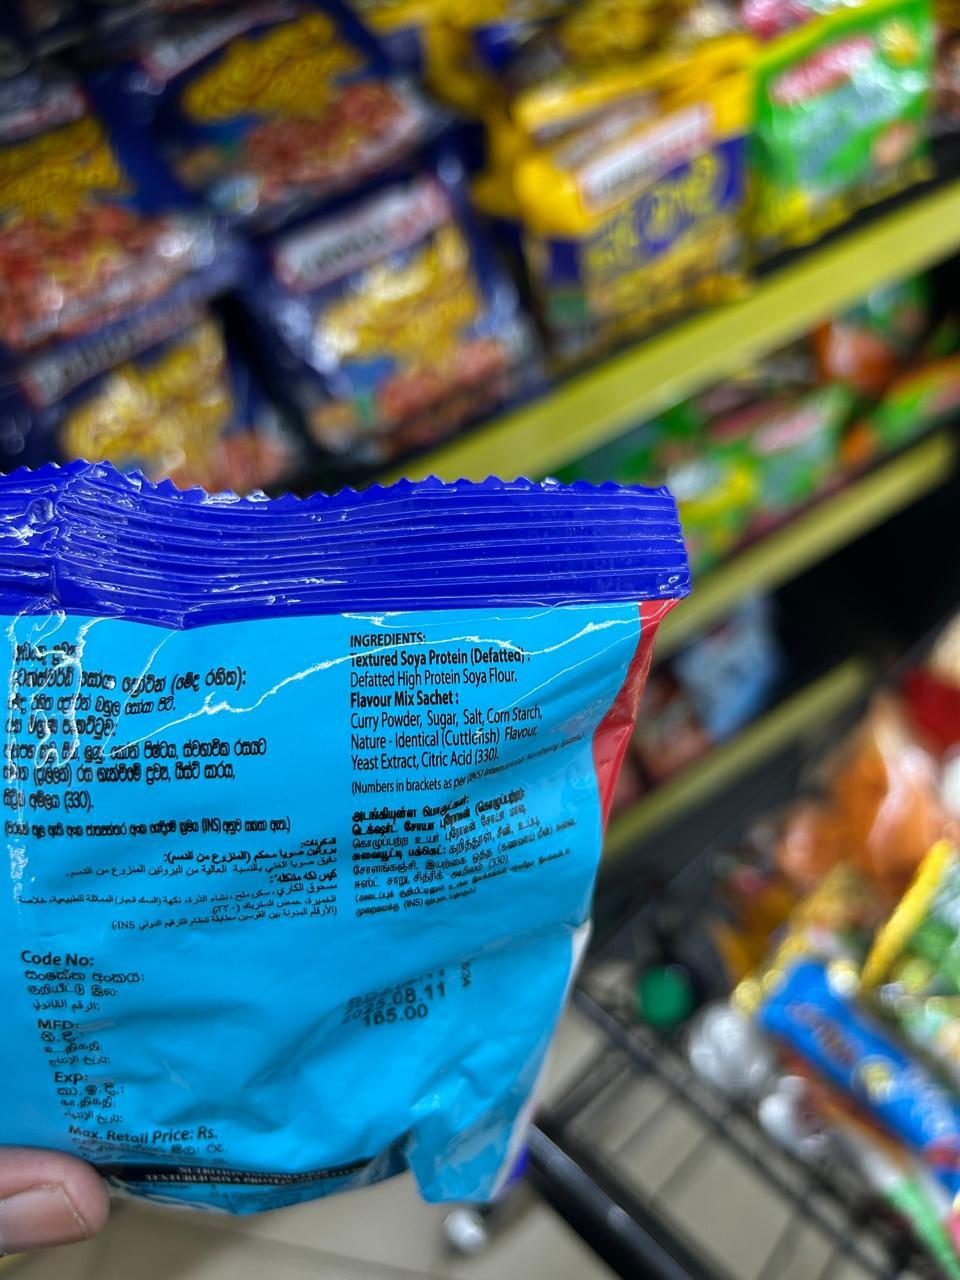ingredients: (303, 591, 627, 833)
